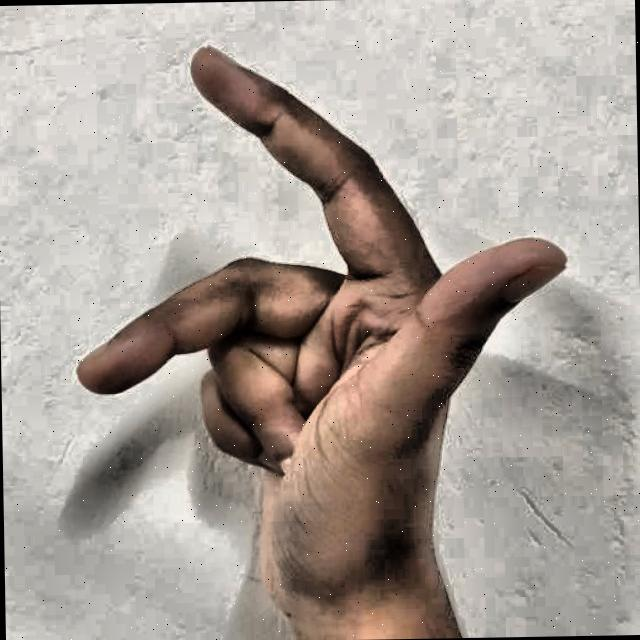Da: (38, 19, 598, 626)
